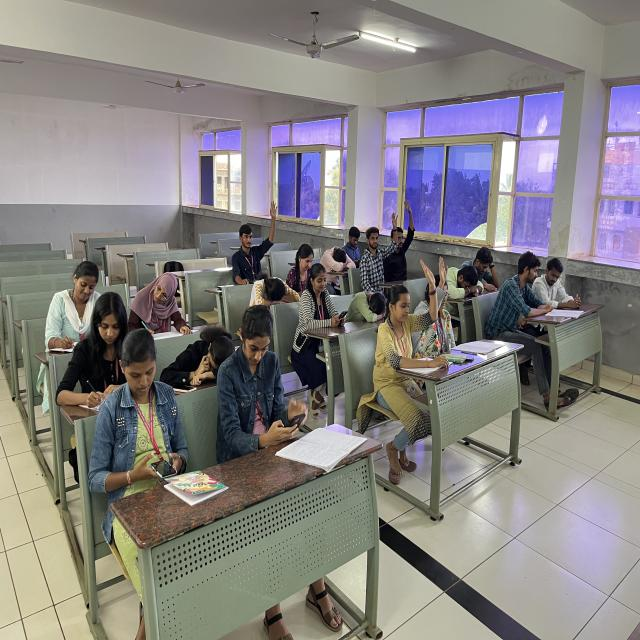Hand Rising: (377, 256, 438, 381), (222, 192, 283, 271), (417, 249, 459, 363), (363, 203, 401, 277), (394, 198, 419, 278)
Reading: (499, 245, 586, 345), (537, 234, 587, 329)
Sleeping: (155, 296, 247, 398), (231, 257, 299, 330), (348, 269, 387, 334), (314, 230, 352, 286), (446, 266, 485, 304)
Using Phone: (107, 331, 201, 490), (224, 306, 314, 442), (293, 257, 352, 345), (468, 234, 505, 299), (342, 214, 365, 278)
Writing: (52, 283, 146, 416), (31, 248, 106, 356), (122, 260, 198, 342)
